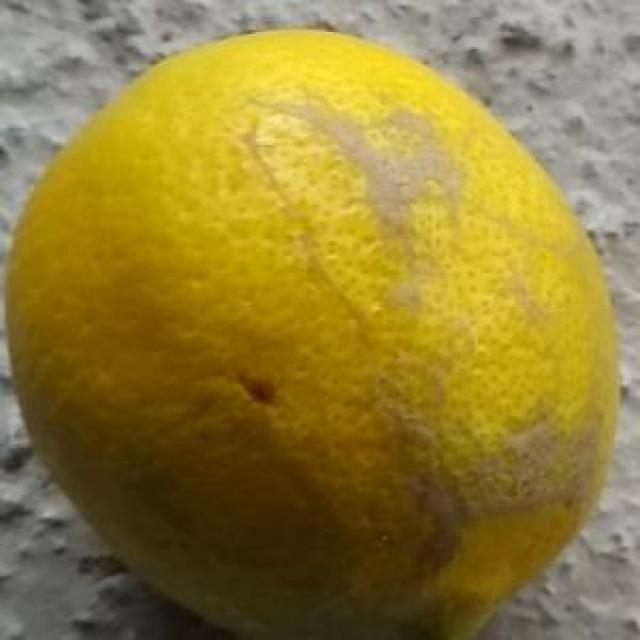lemon: (6, 27, 622, 640)
